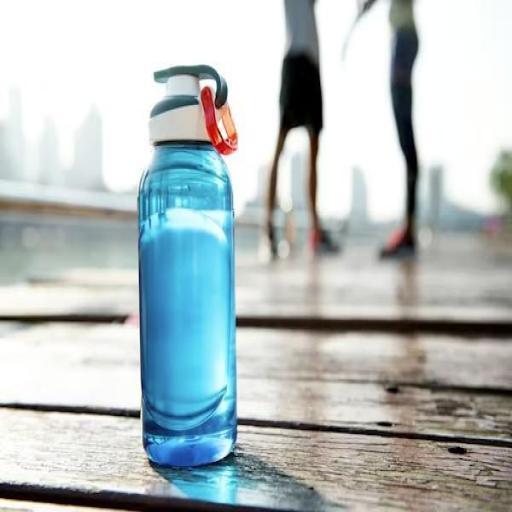bottle: (132, 52, 246, 478)
